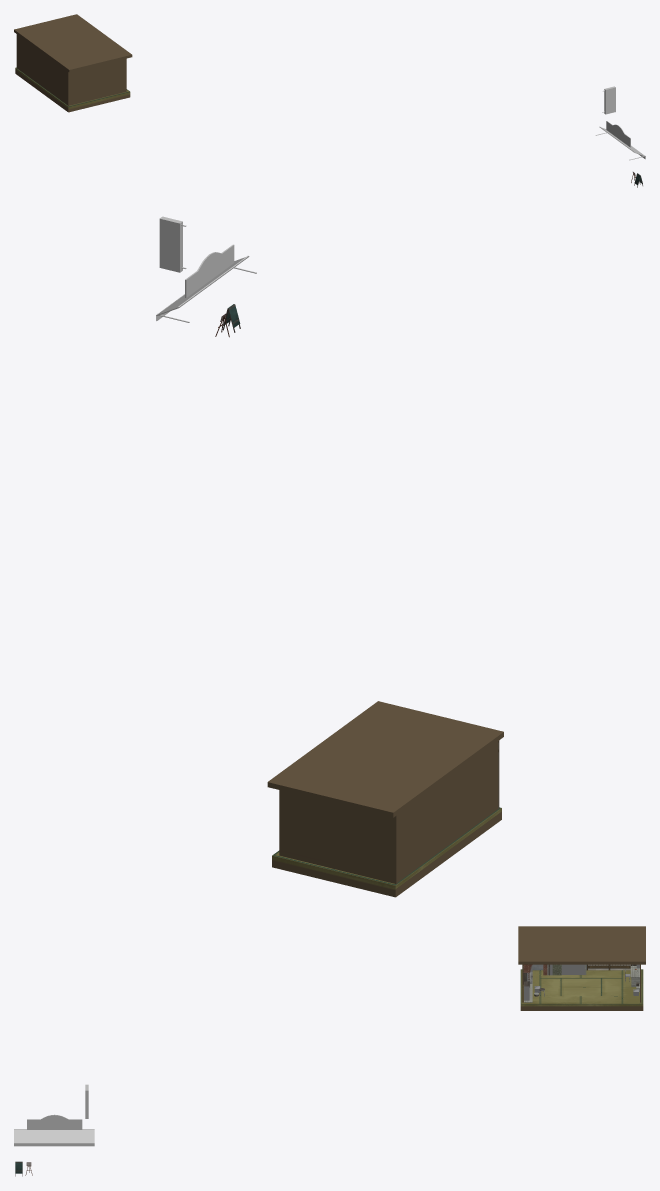
The model's file is Heroine's room02.fbx.
3 views of the same model, one above another, from view 1: azimuth 30°, elevation 25°; view 2: azimuth 150°, elevation 25°; view 3: azimuth 270°, elevation 25° (orthographic). The views are drawn at different scales.
Visible parts, largest first — view 1: Cube.159, Cube.188, Cube.126, Cube.190, Cylinder.089, Cube.150; view 2: Cube.159, Cube.189, Cube.126, Cube.190, Cylinder.089, Cube.150; view 3: Cube.159, Cube.190, Cube.151, Cube.150, Cube.126.
Part boxes in pixels (x1=…): Cube.159: x1=14, y1=14, x2=132, y2=72; Cube.188: x1=67, y1=58, x2=126, y2=105; Cube.126: x1=17, y1=35, x2=67, y2=104; Cube.190: x1=15, y1=67, x2=130, y2=112; Cylinder.089: x1=602, y1=86, x2=615, y2=114; Cube.150: x1=606, y1=121, x2=630, y2=147; Cube.159: x1=267, y1=701, x2=503, y2=817; Cube.189: x1=279, y1=790, x2=397, y2=883; Cube.126: x1=397, y1=741, x2=497, y2=882; Cube.190: x1=272, y1=807, x2=501, y2=897; Cylinder.089: x1=159, y1=216, x2=186, y2=272; Cube.150: x1=185, y1=244, x2=234, y2=297; Cube.159: x1=518, y1=926, x2=645, y2=964; Cube.190: x1=520, y1=969, x2=643, y2=1010; Cube.151: x1=14, y1=1129, x2=94, y2=1146; Cube.150: x1=27, y1=1114, x2=82, y2=1129; Cube.126: x1=532, y1=964, x2=632, y2=970.
Bounding box in the file's own units: 1682 × 341 × 2226.
